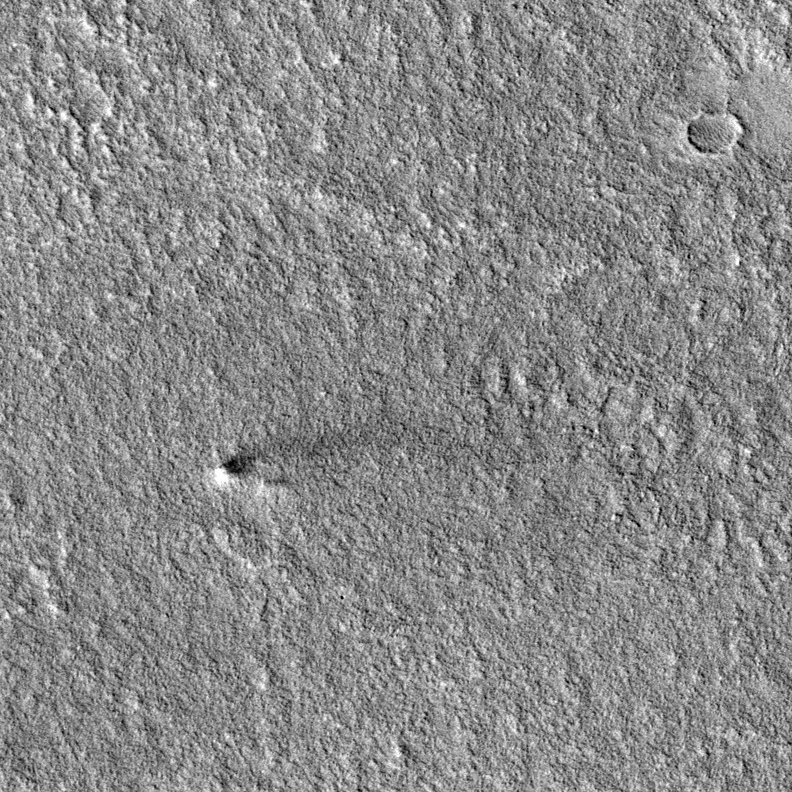dust_devil: (209, 435, 315, 491)
